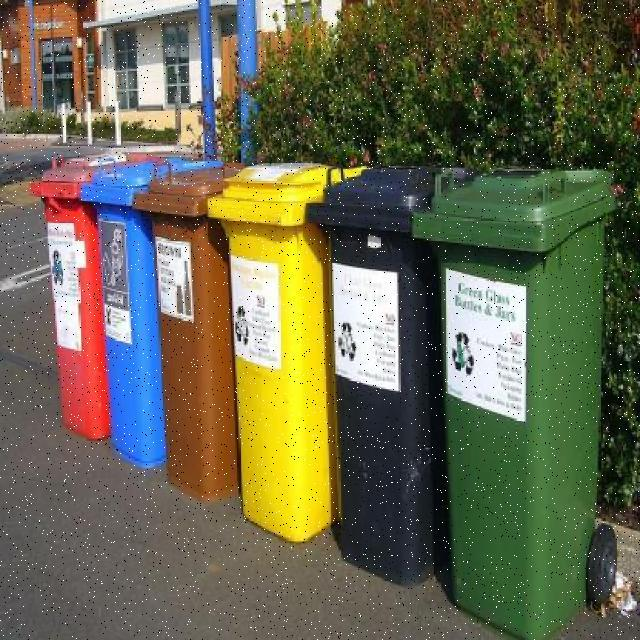garbage container: (429, 154, 631, 640), (328, 157, 451, 605), (228, 148, 337, 565), (152, 155, 240, 514), (27, 144, 115, 461), (98, 157, 160, 468)
